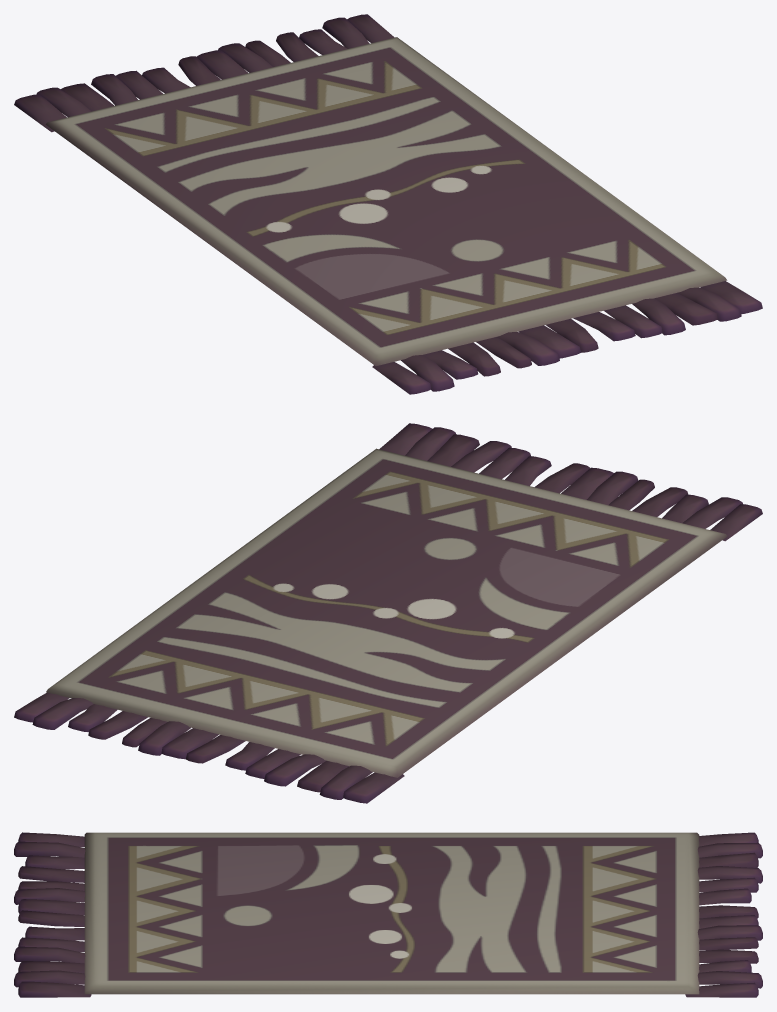
File: scenes_around_carpet01b.FBX
3 renders of one model, top to bottom at view 1: azimuth 30°, elevation 25°; view 2: azimuth 150°, elevation 25°; view 3: azimuth 270°, elevation 25°, orthographic. The views are drawn at different scales.
Visible parts, largest first — view 1: scenes_around_cwarpet01b; view 2: scenes_around_cwarpet01b; view 3: scenes_around_cwarpet01b.
Boxes of the visible parts, x1,y1,x2,y2 form: scenes_around_cwarpet01b: (14,14,762,394); scenes_around_cwarpet01b: (14,423,762,803); scenes_around_cwarpet01b: (14,832,762,997).
Size of the model in its own units: 14104 by 342 by 27842.
